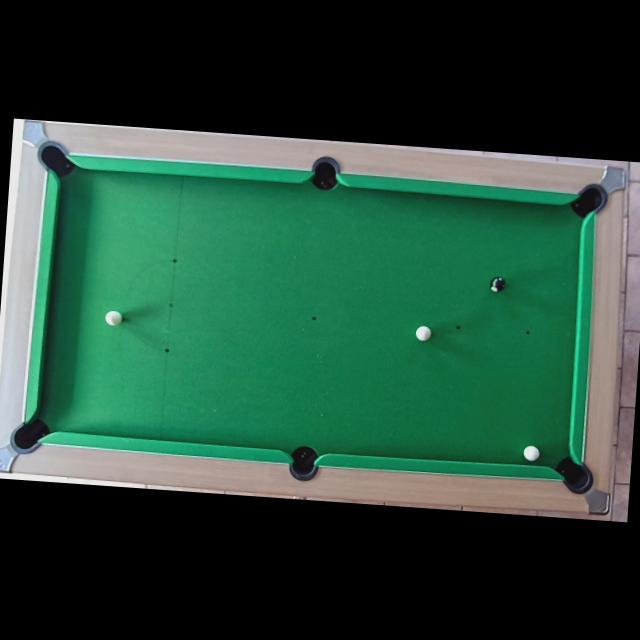Ball: (104, 309, 122, 326), (416, 325, 432, 341), (522, 445, 538, 461), (489, 277, 505, 292)
